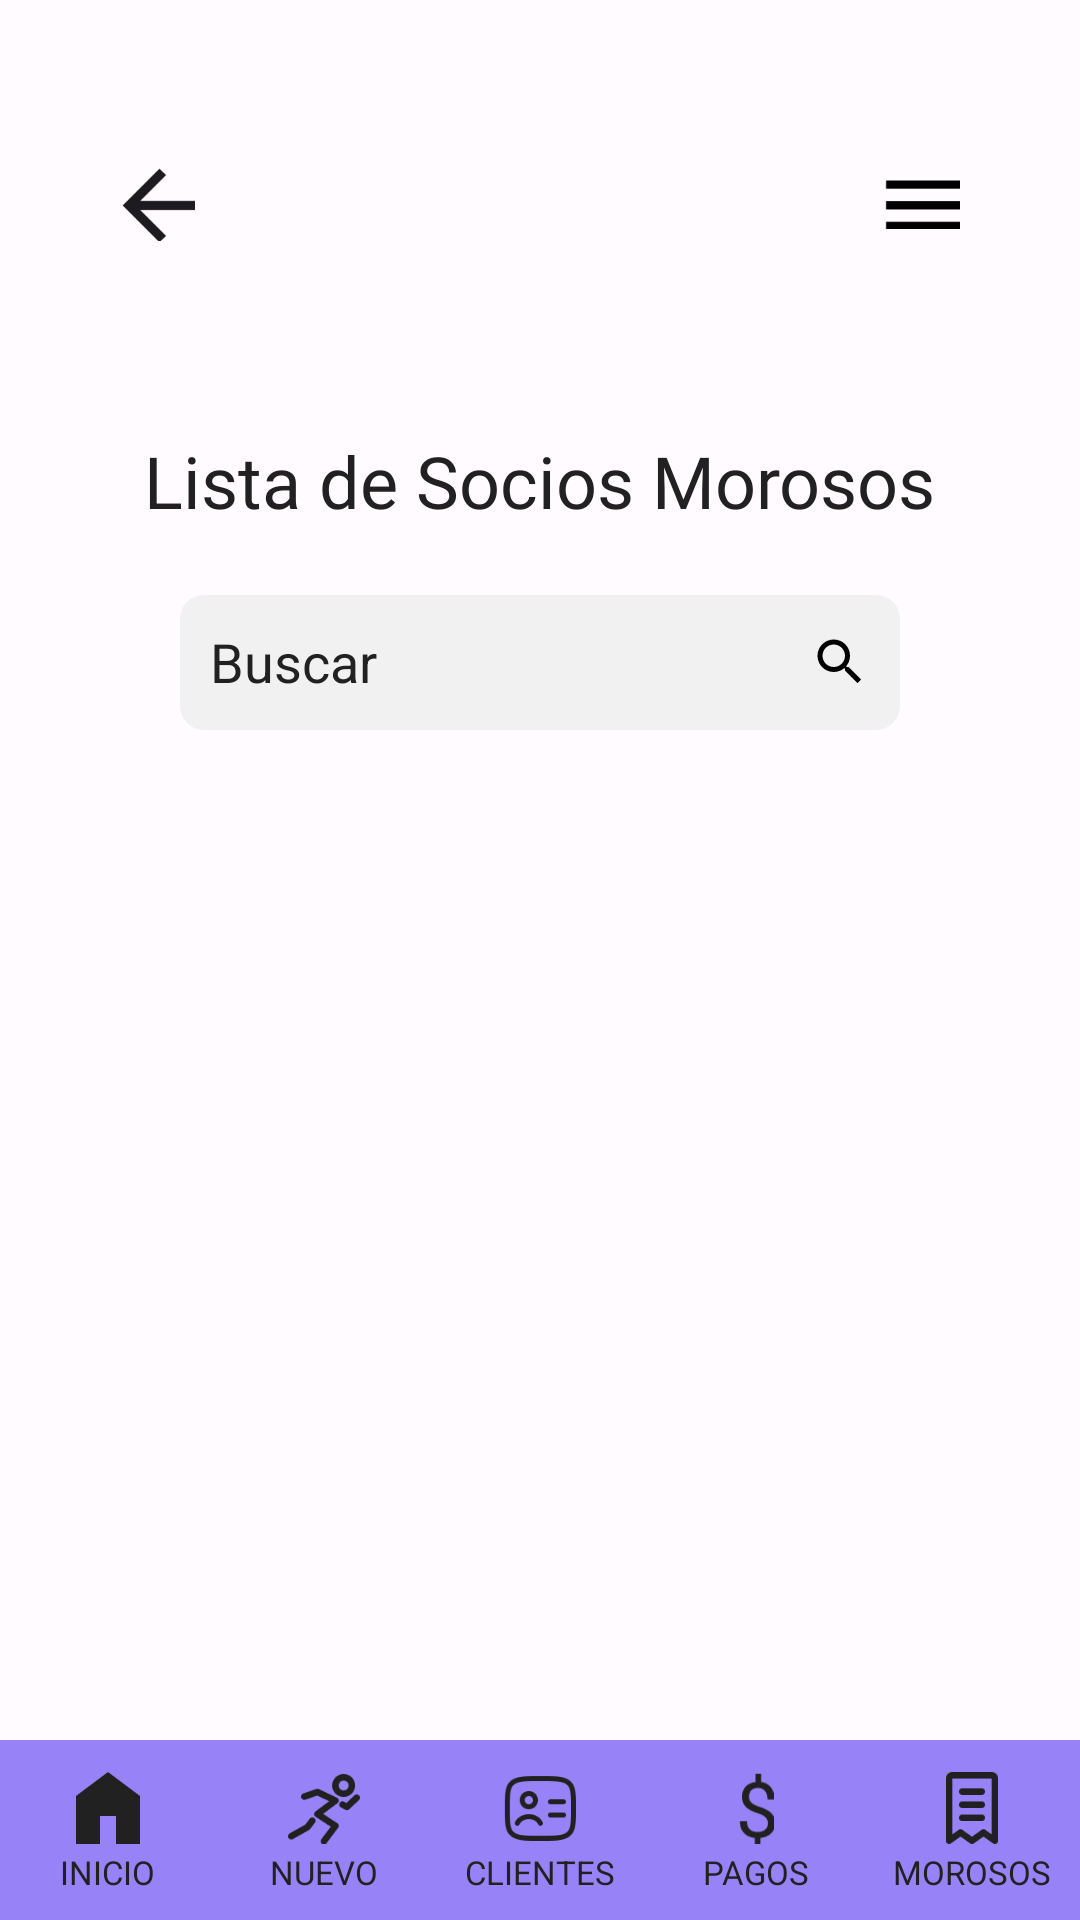

Locate icon controls on the screen. Image size 1080 × 1920, boxes as [x1,y1,x2,y2].
Menú: [885,180,960,229]
Volver: [122,168,195,241]
